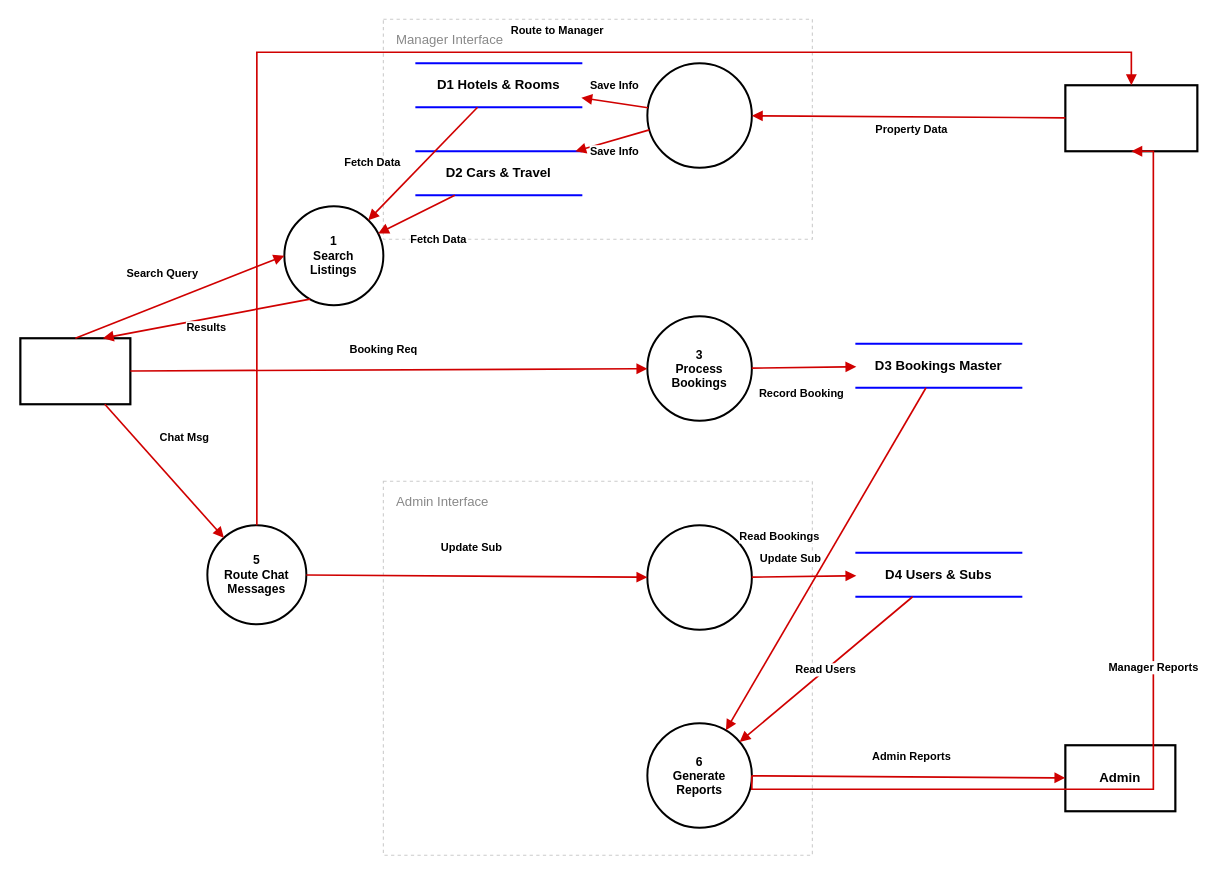
This 1217x875 diagram has some shape labels left out. The shapes that lost their labels are listed below. From the top down, each one's centre as x and y in pixels, then its label:
the point at 699,115: 2 Manage Hotels & Cars
the point at 1131,118: Manager
the point at 75,371: Customer
the point at 699,577: 4 Handle Subscriptions
